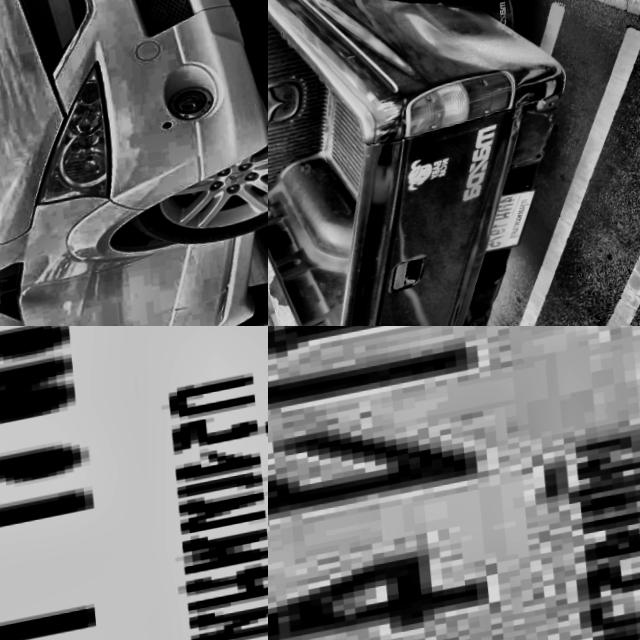license-plate: (268, 326, 640, 640), (0, 326, 268, 640), (469, 191, 546, 263)
